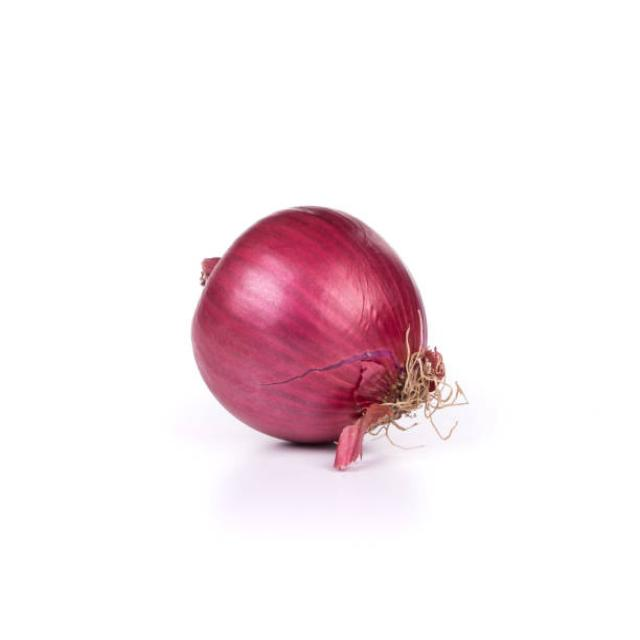onion: (185, 190, 452, 486)
